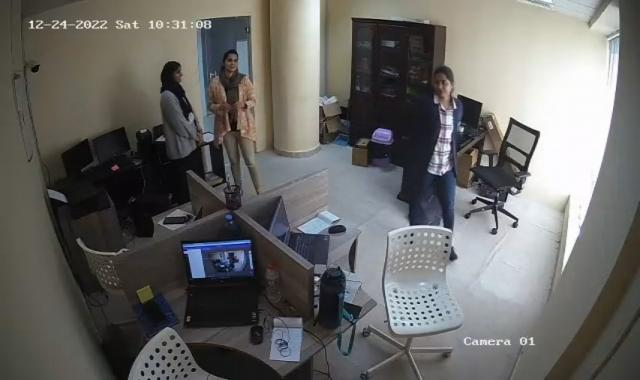no_hairnet: (430, 65, 454, 100), (159, 59, 185, 89), (222, 48, 240, 74)
